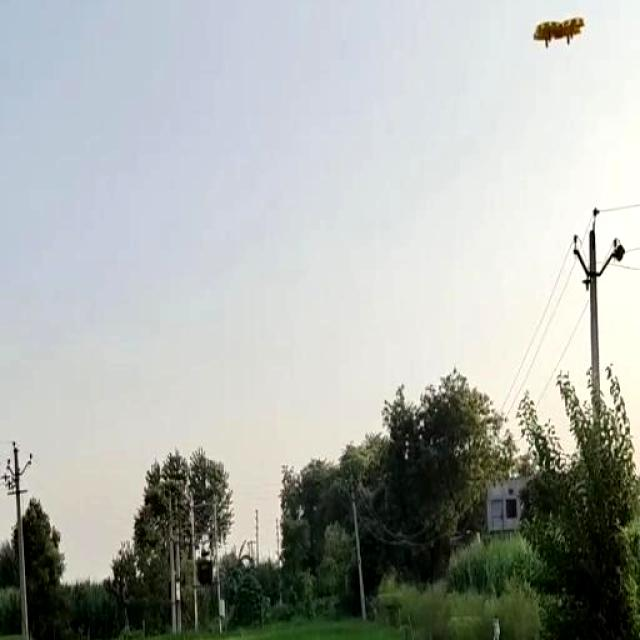bird: (530, 0, 588, 51)
